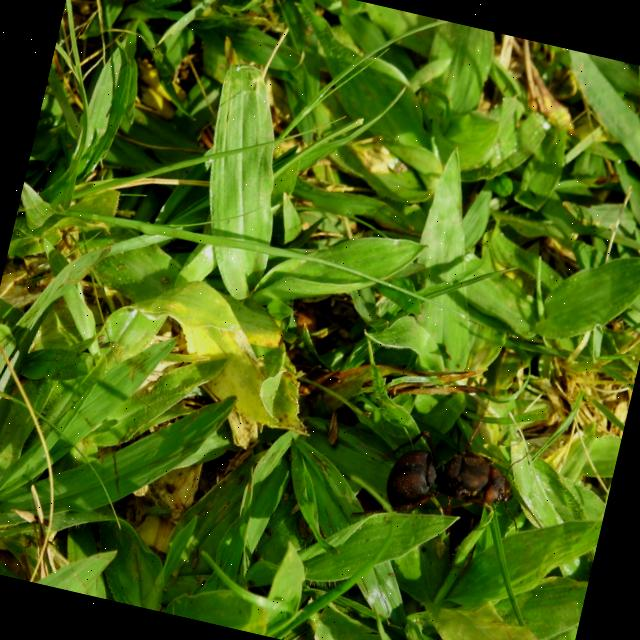Alive-Female-Dealate: (348, 373, 544, 567)
